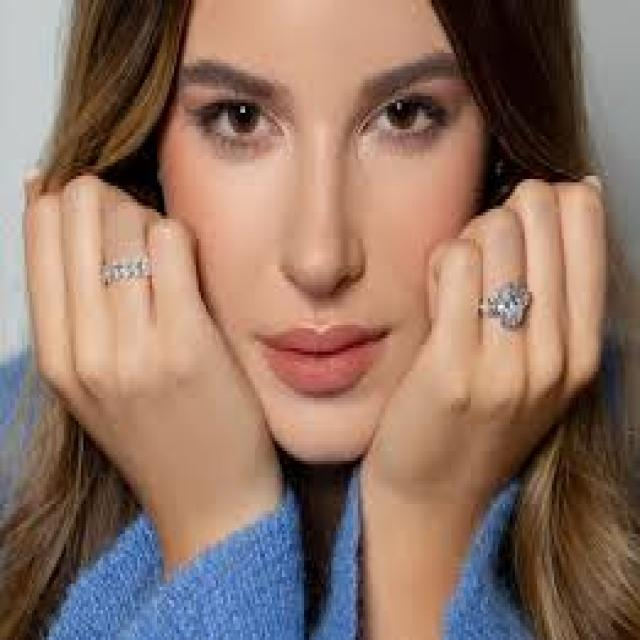Ring: (478, 272, 551, 344), (93, 240, 165, 292)
